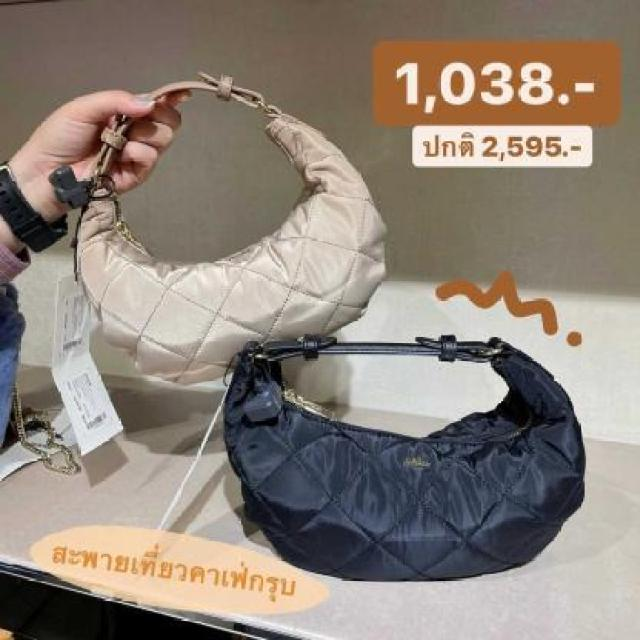Bag: (40, 58, 438, 398), (215, 327, 597, 595)
